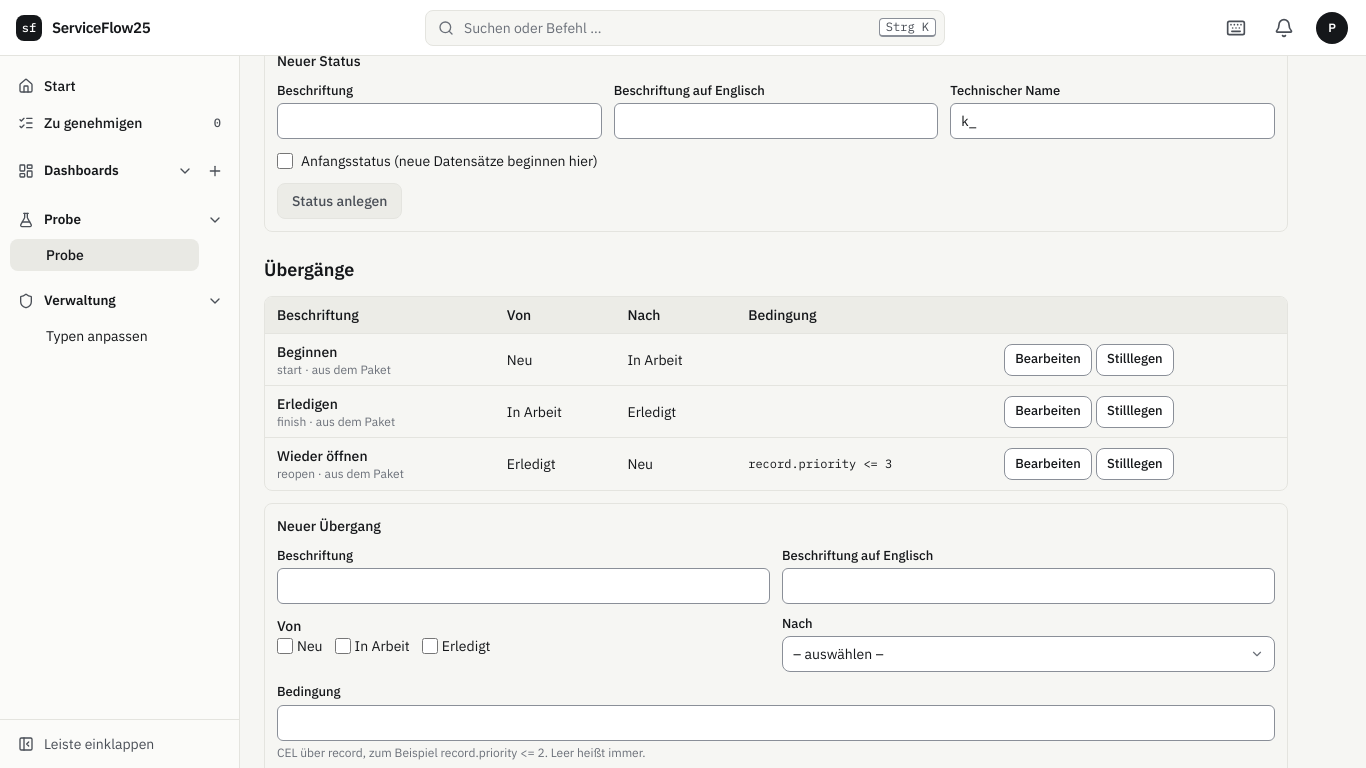
Test: Workflow editor › disables a transition of the package, moves the initial state and takes back
The image size is (1366, 768).
(page scrolled)
Click the button with aria-label "„Erledigen“ stilllegen": [1135, 412] box [1096, 396, 1174, 428]
(page scrolled)
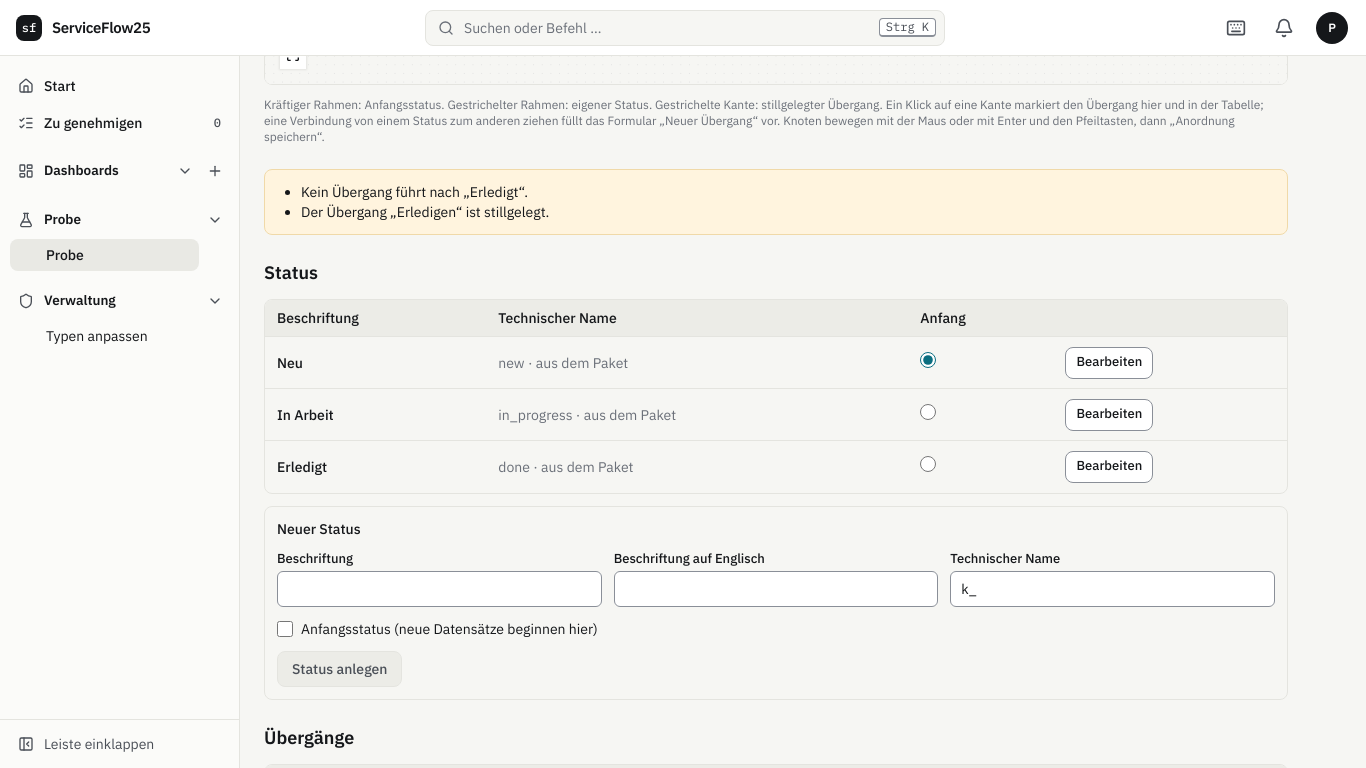
Check: the list item "Der Übergang „Erledigen“ ist stillgelegt." is shown, box [301, 203, 549, 221]
Click the radio button named "Anfangsstatus: In Arbeit": [928, 412] box [920, 404, 936, 420]
(page scrolled)
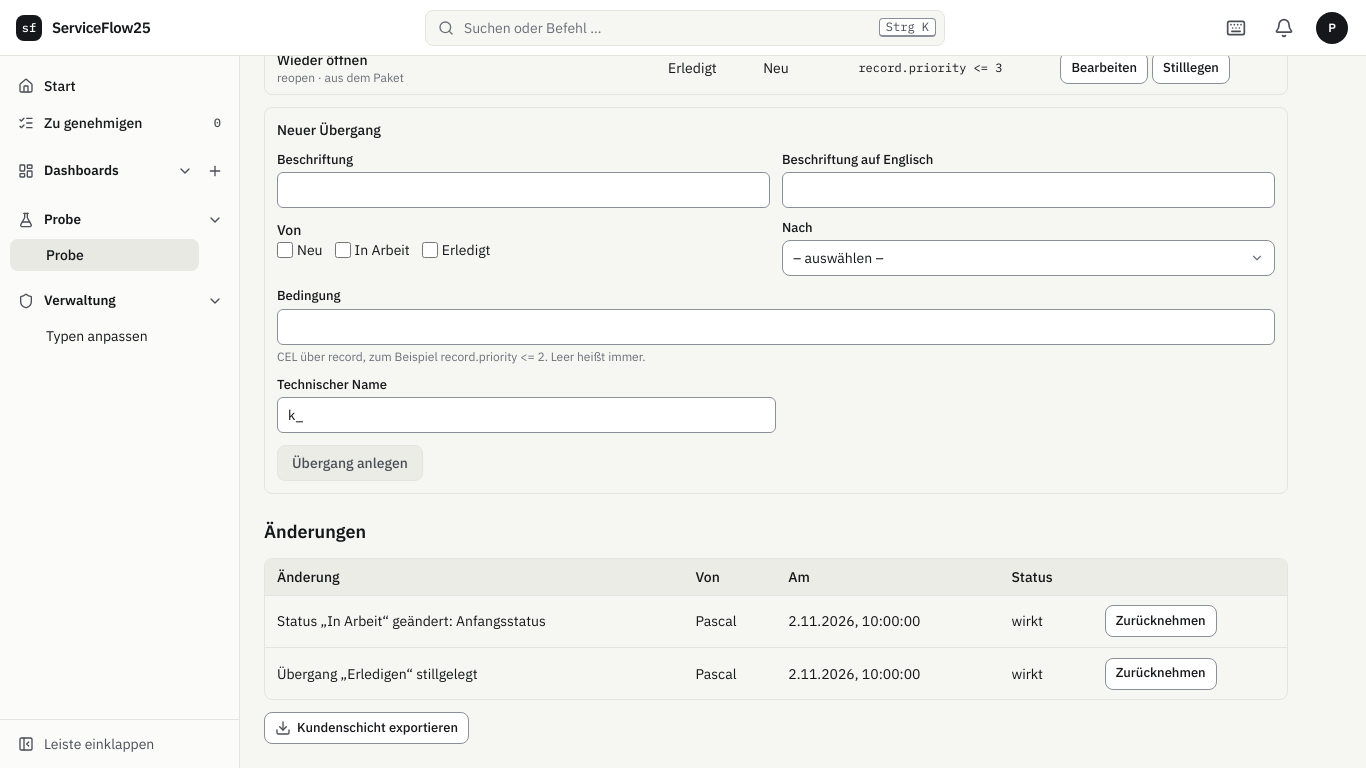
Click the button with aria-label "Zurücknehmen: Übergang „Erledigen“ stillgelegt": [1161, 674] box [1105, 658, 1217, 690]
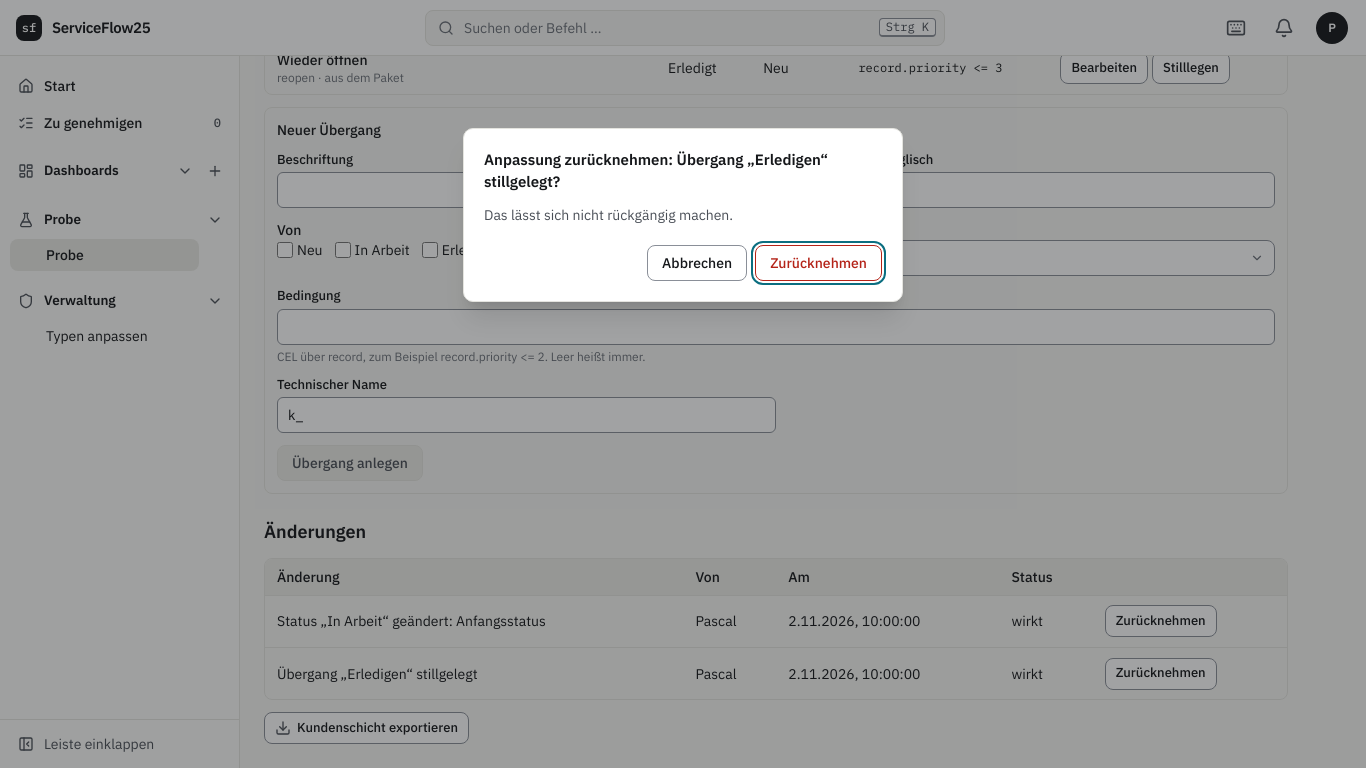
Click the button "Zurücknehmen": [819, 262] box [755, 244, 882, 280]
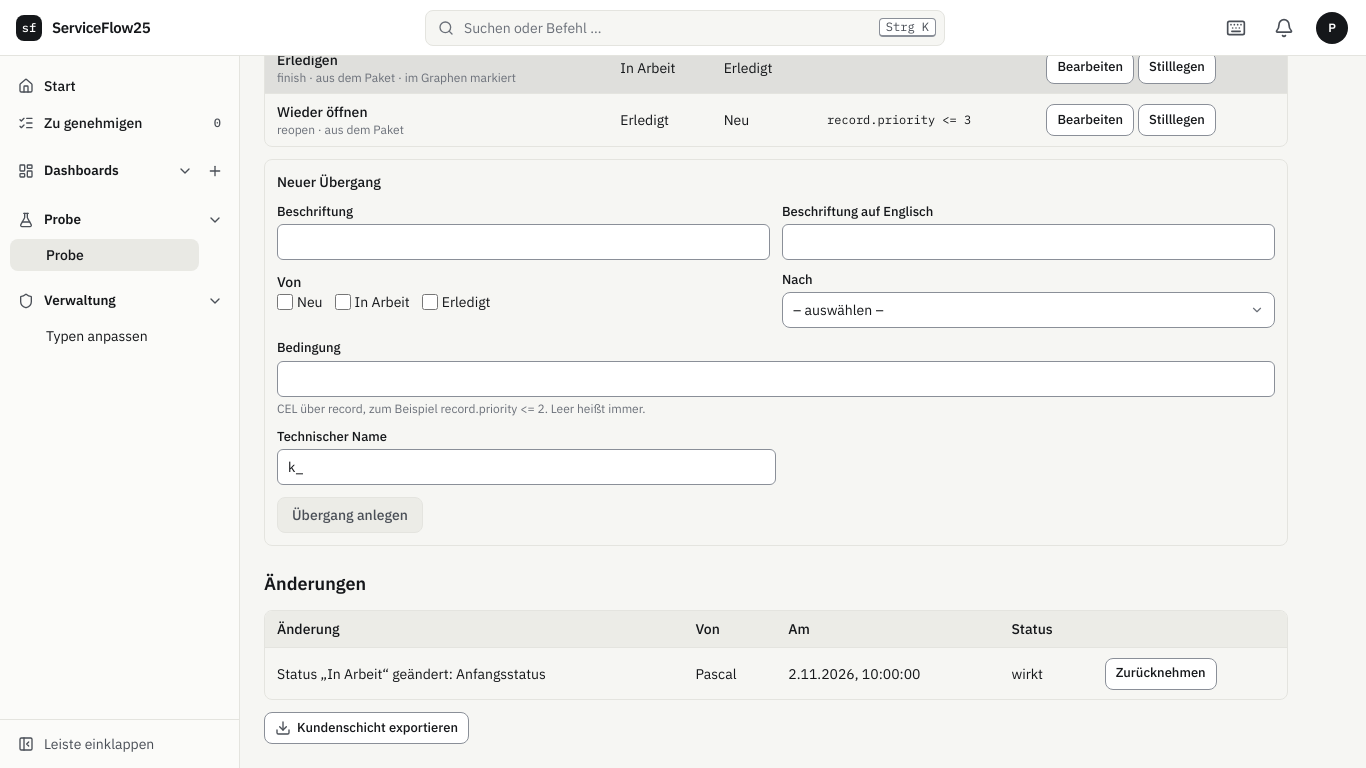
Check: the button with aria-label "„Erledigen“ stilllegen" is shown, box [1138, 56, 1216, 84]
